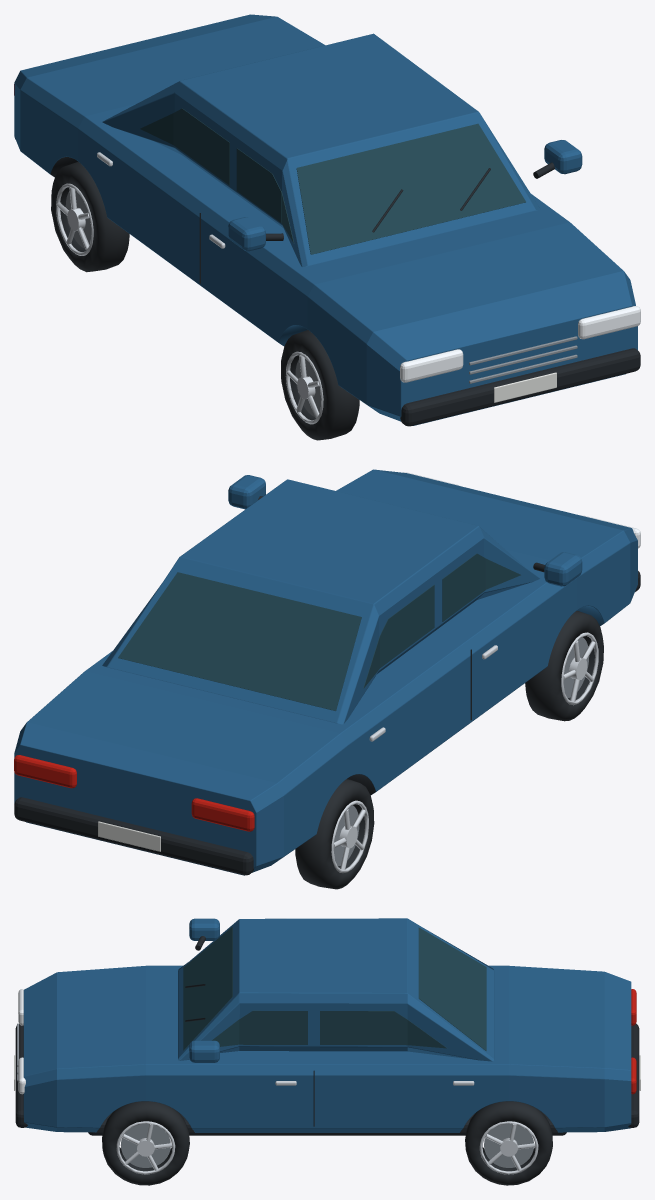
The model's file is SedanCar.fbx.
3 renders of one model, top to bottom at view 1: azimuth 30°, elevation 25°; view 2: azimuth 150°, elevation 25°; view 3: azimuth 270°, elevation 25°, orthographic. The views are drawn at different scales.
Parts seen in each view (by area): view 1: SedanCar, wheel1, wheel3; view 2: SedanCar, wheel3, wheel1; view 3: SedanCar, wheel2, wheel4.
Part boxes in pixels (<box>): SedanCar: <box>14,14,640,426</box>; wheel1: <box>281,330,359,440</box>; wheel3: <box>51,161,129,272</box>; SedanCar: <box>14,469,640,875</box>; wheel3: <box>295,779,374,889</box>; wheel1: <box>525,610,603,721</box>; SedanCar: <box>14,918,640,1167</box>; wheel2: <box>102,1101,189,1185</box>; wheel4: <box>465,1101,552,1185</box>.
Bounding box in the file's own units: 232 × 148 × 470.
